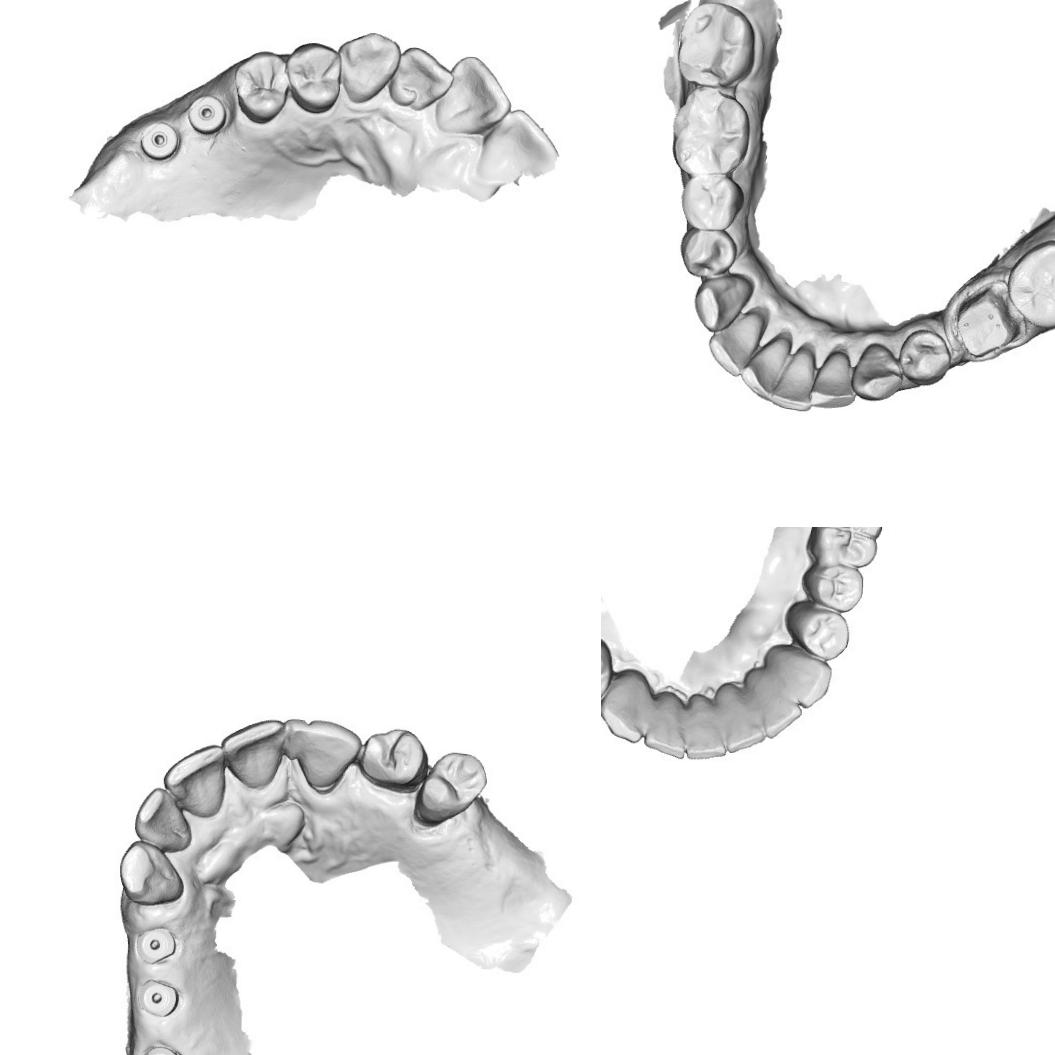canine: (339, 29, 402, 107), (356, 728, 427, 790), (119, 838, 182, 907), (686, 275, 757, 334), (764, 645, 832, 703), (854, 340, 906, 403), (603, 673, 651, 739)
crown: (955, 288, 1013, 364)
implant: (185, 90, 234, 140), (137, 115, 183, 164), (138, 976, 186, 1020), (136, 926, 180, 969), (136, 1039, 194, 1055)
incisor: (468, 107, 560, 186), (433, 53, 511, 136), (284, 714, 358, 792), (166, 746, 225, 818), (389, 45, 455, 109), (706, 312, 764, 380), (226, 718, 282, 784), (741, 331, 790, 406), (807, 345, 860, 411), (133, 792, 193, 848), (749, 671, 801, 733), (716, 683, 765, 748), (644, 690, 690, 755), (771, 345, 814, 414), (684, 694, 728, 759)
molar: (672, 93, 748, 176), (678, 5, 751, 86), (1010, 244, 1055, 321), (817, 527, 885, 571)
premolar: (232, 48, 291, 128), (285, 40, 345, 114), (421, 748, 483, 810), (894, 325, 950, 386), (682, 168, 739, 226), (678, 225, 740, 278), (794, 606, 850, 656), (817, 568, 864, 607)
